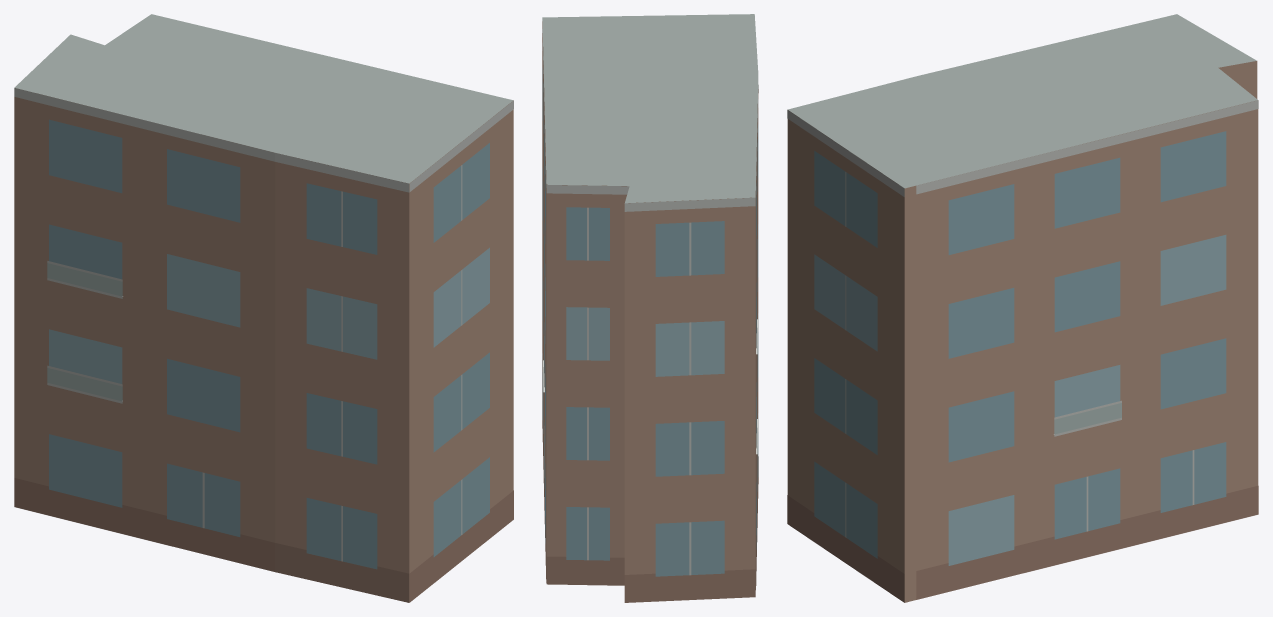
The model's file is survey-upis-32595708.glb.
3 renders of one model, left to right at view 1: azimuth 30°, elevation 25°; view 2: azimuth 150°, elevation 25°; view 3: azimuth 270°, elevation 25°, orthographic. The views are drawn at different scales.
Parts seen in each view (by area): view 1: survey-upis-32595708.tmp; view 2: survey-upis-32595708.tmp; view 3: survey-upis-32595708.tmp.
Boxes of the visible parts, left/top/right/bottom form: survey-upis-32595708.tmp: left=14, top=14, right=513, bottom=602; survey-upis-32595708.tmp: left=542, top=14, right=758, bottom=602; survey-upis-32595708.tmp: left=787, top=14, right=1258, bottom=602.
Bounding box in the file's own units: 10.21 × 11.3 × 11.65.
